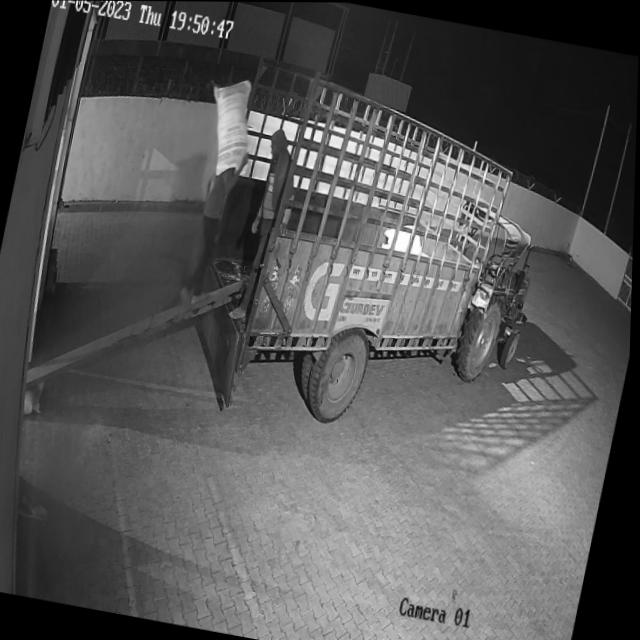sack: (197, 73, 264, 181)
